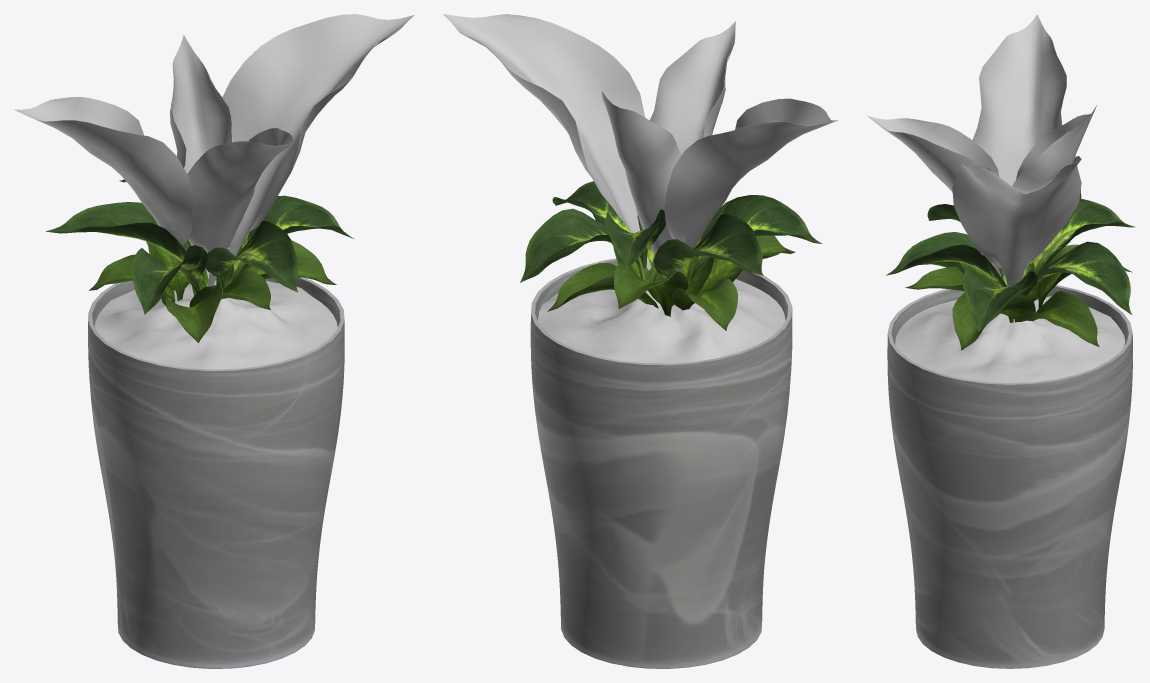
File: dieffenbachia.fbx
3 views of the same model, side by side, from view 1: azimuth 30°, elevation 25°; view 2: azimuth 150°, elevation 25°; view 3: azimuth 270°, elevation 25° (orthographic). The views are drawn at different scales.
Visible parts, largest first — view 1: pot, leaf_big, soil, leaf_med, leaf_small; view 2: pot, leaf_big, leaf_med, soil, leaf_small; view 3: pot, leaf_big, soil, leaf_med, leaf_small.
Part boxes in pixels (x1,y1,x2,y2): pot: [88, 277, 344, 668]; leaf_big: [14, 14, 414, 286]; soil: [95, 280, 337, 369]; leaf_med: [46, 179, 353, 314]; leaf_small: [89, 240, 336, 342]; pot: [530, 258, 792, 668]; leaf_big: [443, 14, 838, 277]; leaf_med: [520, 181, 821, 283]; soil: [538, 279, 785, 363]; leaf_small: [547, 235, 795, 330]; pot: [887, 285, 1132, 668]; leaf_big: [868, 14, 1096, 286]; soil: [895, 296, 1125, 382]; leaf_med: [886, 190, 1134, 331]; leaf_small: [905, 244, 1131, 350].
Size of the model in its own units: 22.58 by 30.47 by 13.94.
